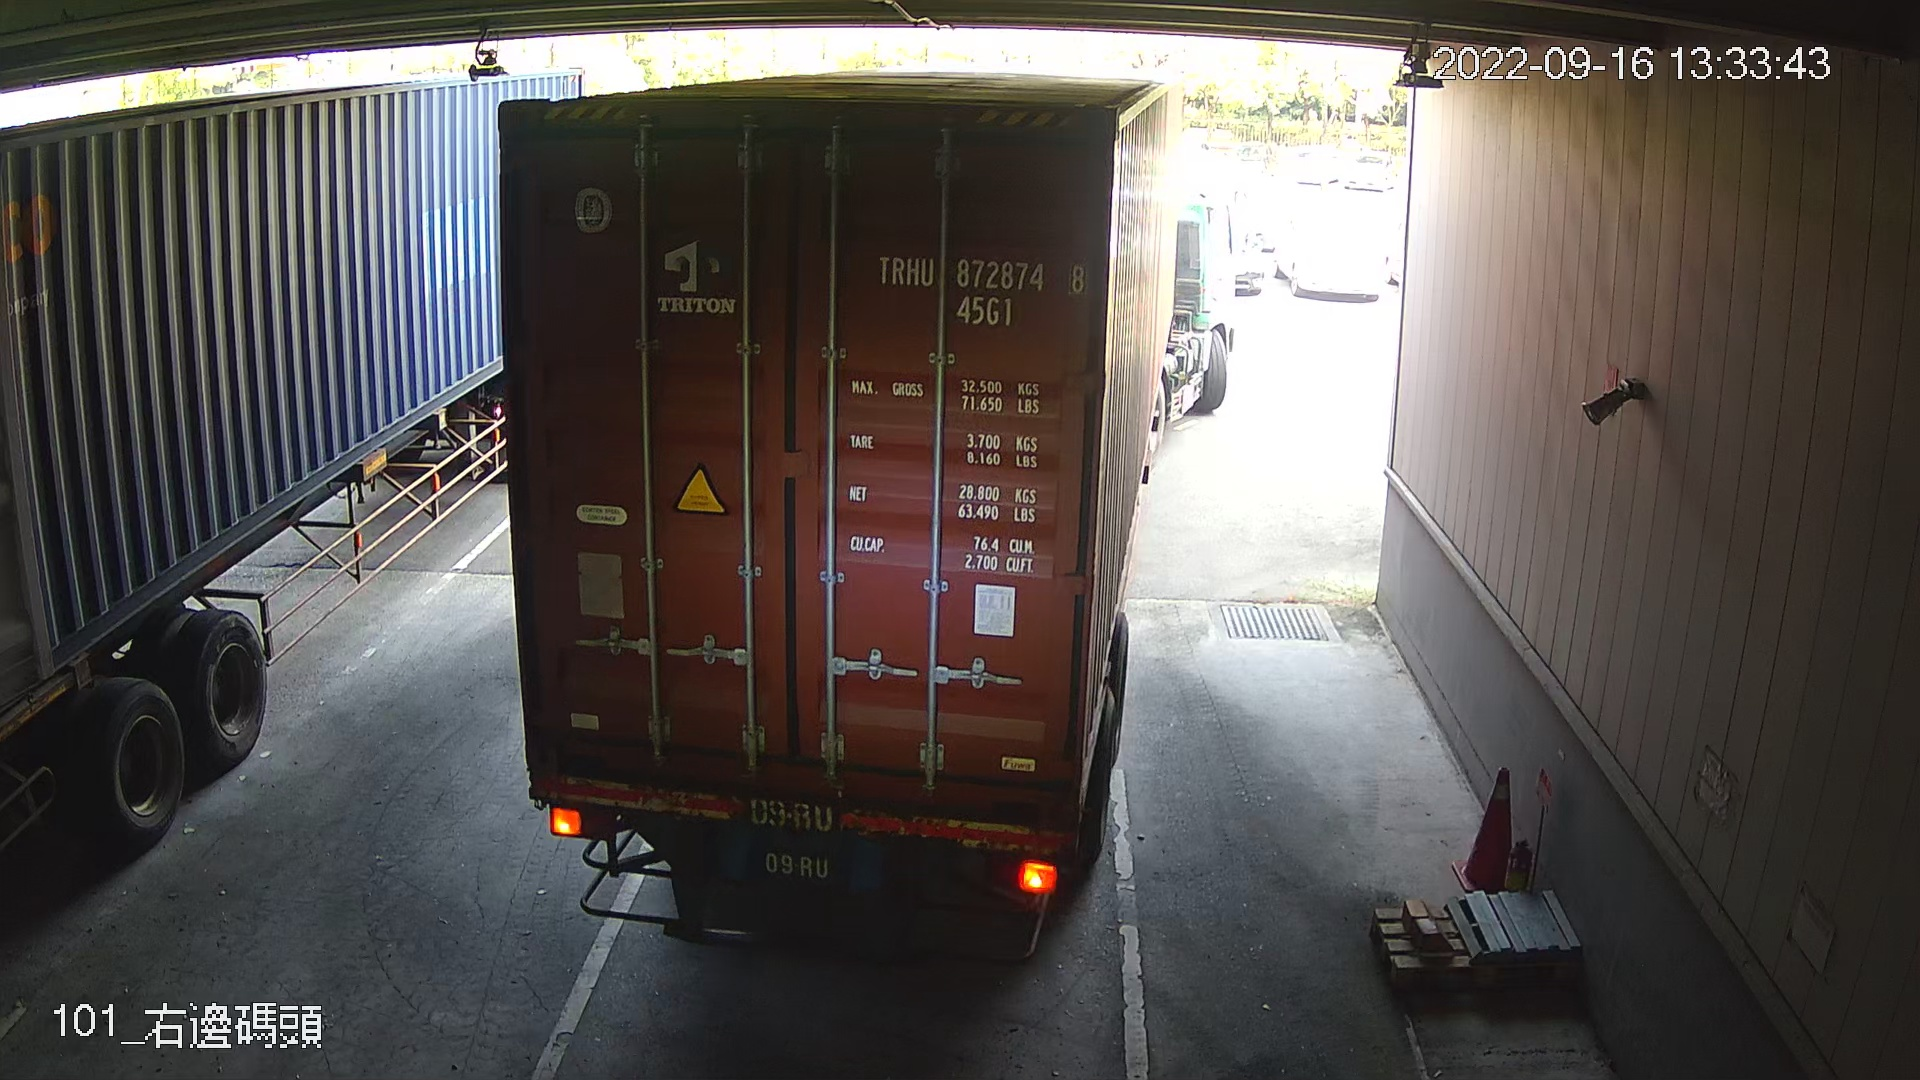container: (862, 240, 1097, 336)
